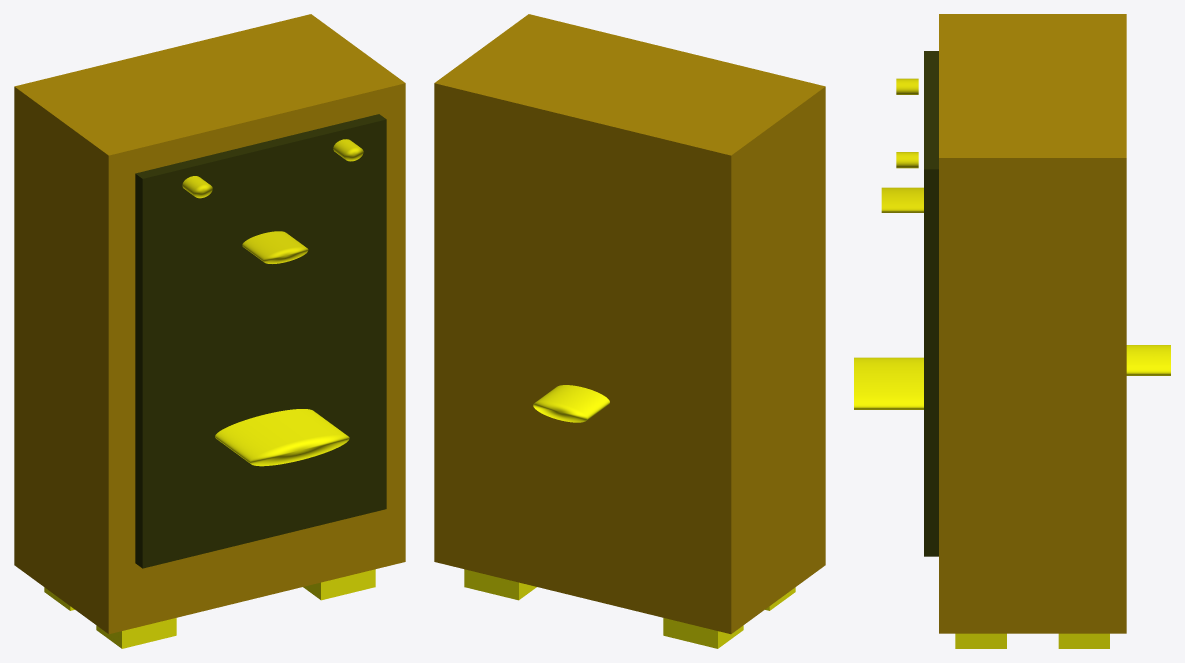
The model's file is speaker.gltf.
The picture shows the model from 3 angles, left to right: view 1: azimuth 30°, elevation 25°; view 2: azimuth 150°, elevation 25°; view 3: azimuth 270°, elevation 25°; orthographic projection.
Visible parts, largest first — view 1: cabinet, front-grille, woofer-cone, tweeter, front-left-rubber-foot, front-right-rubber-foot; view 2: cabinet, rear-port, rear-left-rubber-foot, rear-right-rubber-foot; view 3: cabinet, front-grille, woofer-cone, rear-port, tweeter, front-right-rubber-foot, rear-right-rubber-foot.
Boxes of the visible parts, x1,y1,x2,y2 form: cabinet: (14, 14, 405, 634); front-grille: (135, 114, 386, 568); woofer-cone: (215, 409, 349, 466); tweeter: (242, 231, 308, 263); front-left-rubber-foot: (96, 618, 176, 648); front-right-rubber-foot: (303, 569, 375, 600); cabinet: (434, 14, 825, 634); rear-port: (533, 385, 609, 422); rear-left-rubber-foot: (663, 618, 743, 648); rear-right-rubber-foot: (464, 569, 536, 600); cabinet: (939, 14, 1126, 633); front-grille: (924, 51, 938, 556); woofer-cone: (854, 357, 923, 409); rear-port: (1126, 345, 1170, 375); tweeter: (881, 187, 923, 212); front-right-rubber-foot: (955, 633, 1006, 648); rear-right-rubber-foot: (1058, 633, 1109, 648).
Size of the model in its own units: 1.85 by 3 by 1.72.
Materials: 4 (4 with a texture image).
